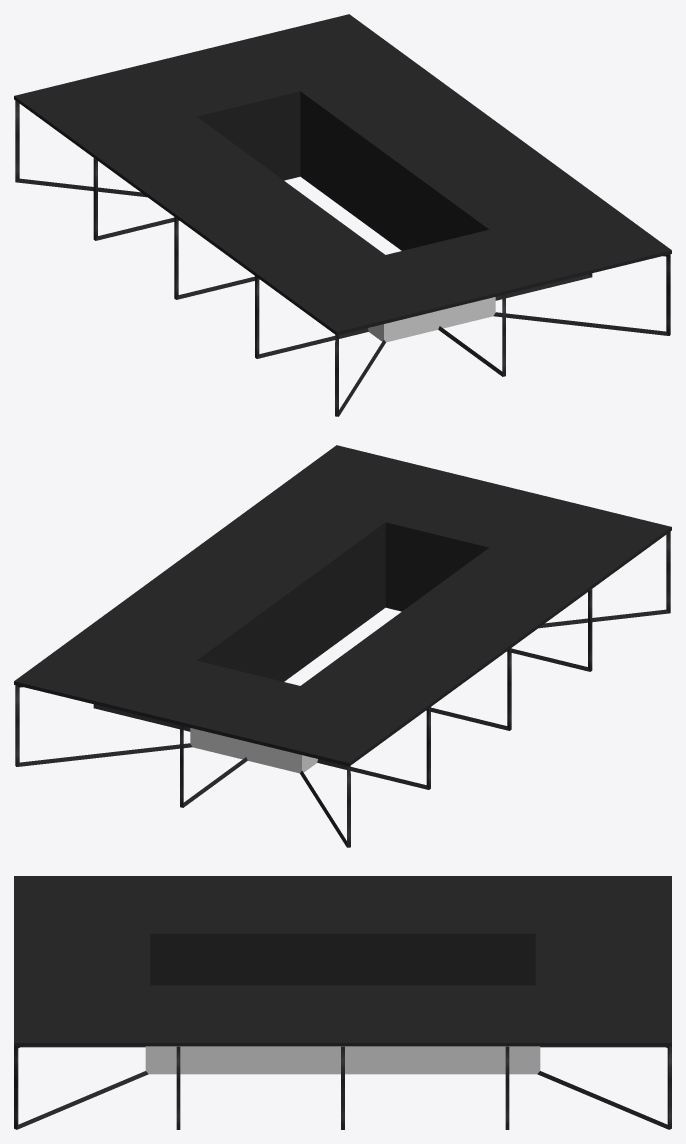
Rendered from Meeting_Table_001.fbx.
3 views of the same model, one above another, from view 1: azimuth 30°, elevation 25°; view 2: azimuth 150°, elevation 25°; view 3: azimuth 270°, elevation 25° (orthographic).
Visible parts, largest first — view 1: Meeting_Table_001; view 2: Meeting_Table_001; view 3: Meeting_Table_001.
Part boxes in pixels (x1,y1,x2,y2): Meeting_Table_001: (14,14,671,416); Meeting_Table_001: (14,445,671,847); Meeting_Table_001: (14,876,671,1129).
Size of the model in its own units: 300 by 73 by 500.
